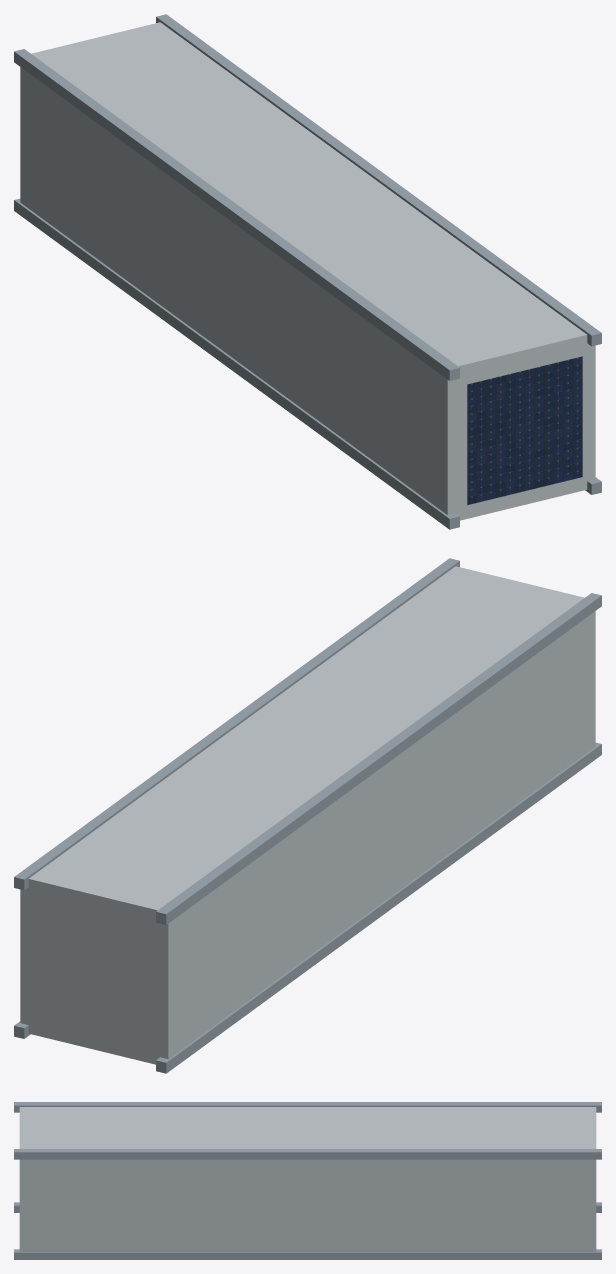
The model's file is ref-cubesat-5u-42712.glb.
3 renders of one model, top to bottom at view 1: azimuth 30°, elevation 25°; view 2: azimuth 150°, elevation 25°; view 3: azimuth 270°, elevation 25°, orthographic. The views are drawn at different scales.
Visible parts, largest first — view 1: Spacecraft body, Dispenser rail (×3), Body-mounted cells; view 2: Spacecraft body, Dispenser rail (×3); view 3: Spacecraft body, Dispenser rail (×3).
Part boxes in pixels (left/top/right/bottom): Spacecraft body: left=20, top=22, right=595, bottom=520; Dispenser rail (×3): left=14, top=14, right=601, bottom=529; Body-mounted cells: left=467, top=356, right=582, bottom=504; Spacecraft body: left=20, top=566, right=595, bottom=1064; Dispenser rail (×3): left=14, top=558, right=601, bottom=1073; Spacecraft body: left=19, top=1107, right=596, bottom=1251; Dispenser rail (×3): left=14, top=1102, right=601, bottom=1259.
Bounding box in the file's own units: 0.103 × 0.103 × 0.51.
Materials: 3 (1 with a texture image).
